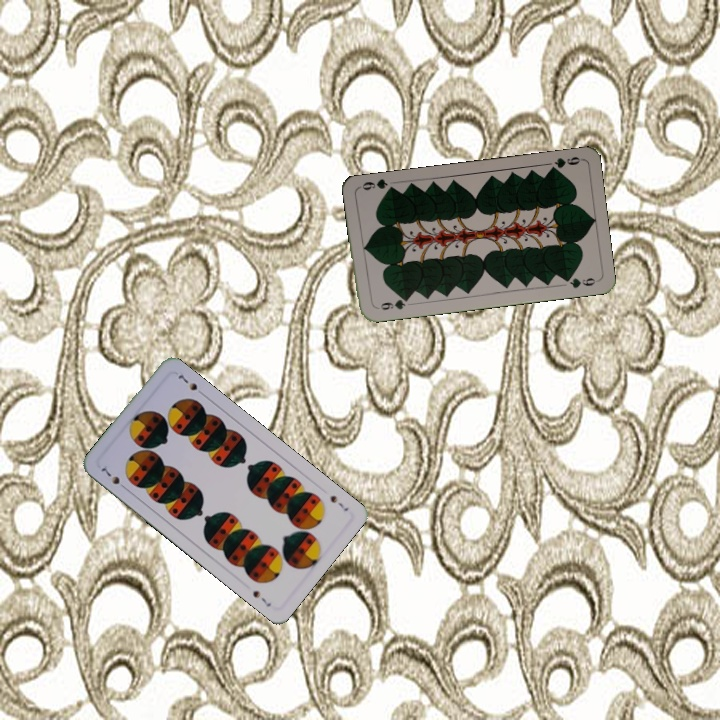G9: (545, 152, 584, 174), (372, 294, 411, 313)
S7: (97, 463, 130, 493), (326, 491, 351, 514)
